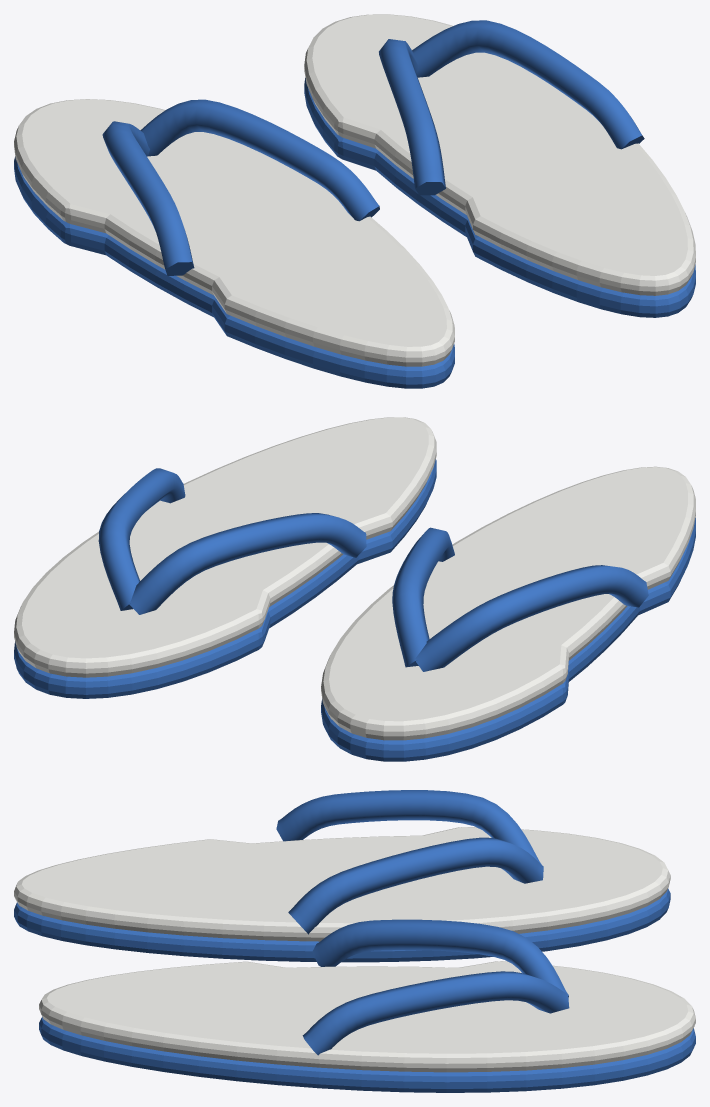
The model's file is chappal_pair.glb.
The picture shows the model from 3 angles, top to bottom: view 1: azimuth 30°, elevation 25°; view 2: azimuth 150°, elevation 25°; view 3: azimuth 270°, elevation 25°; orthographic projection. The views are drawn at different scales.
Parts seen in each view (by area): view 1: chappal_pair; view 2: chappal_pair; view 3: chappal_pair.
Part boxes in pixels (x1,y1,x2,y2): chappal_pair: (14,14,695,388); chappal_pair: (14,417,695,761); chappal_pair: (14,790,695,1092).
Bounding box in the file's own units: 0.2179 × 0.0412 × 0.2696.
